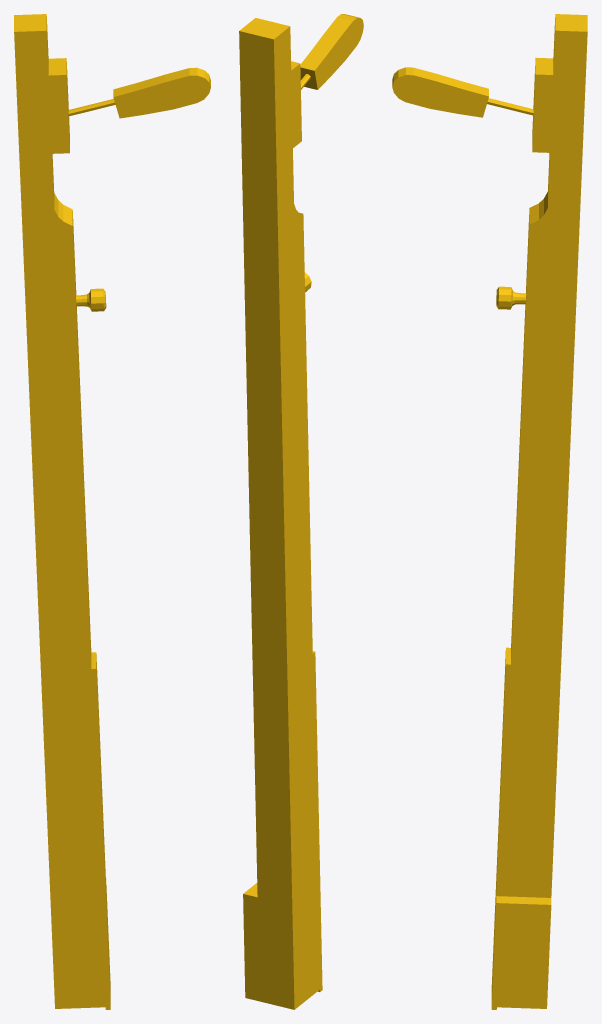
Rendered from key_base.obj.
3 views of the same model, side by side, from view 1: azimuth 90°, elevation 25°; view 2: azimuth 150°, elevation 25°; view 3: azimuth 270°, elevation 25° (orthographic).
Parts seen in each view (by area): view 1: white_keys.006_Cube.008; view 2: white_keys.006_Cube.008; view 3: white_keys.006_Cube.008.
Boxes of the visible parts, <box> form: white_keys.006_Cube.008: <box>14,14,210,1009</box>; white_keys.006_Cube.008: <box>239,14,363,1009</box>; white_keys.006_Cube.008: <box>392,14,587,1009</box>.
Bounding box in the file's own units: 0.0308 × 0.5912 × 0.1077.
